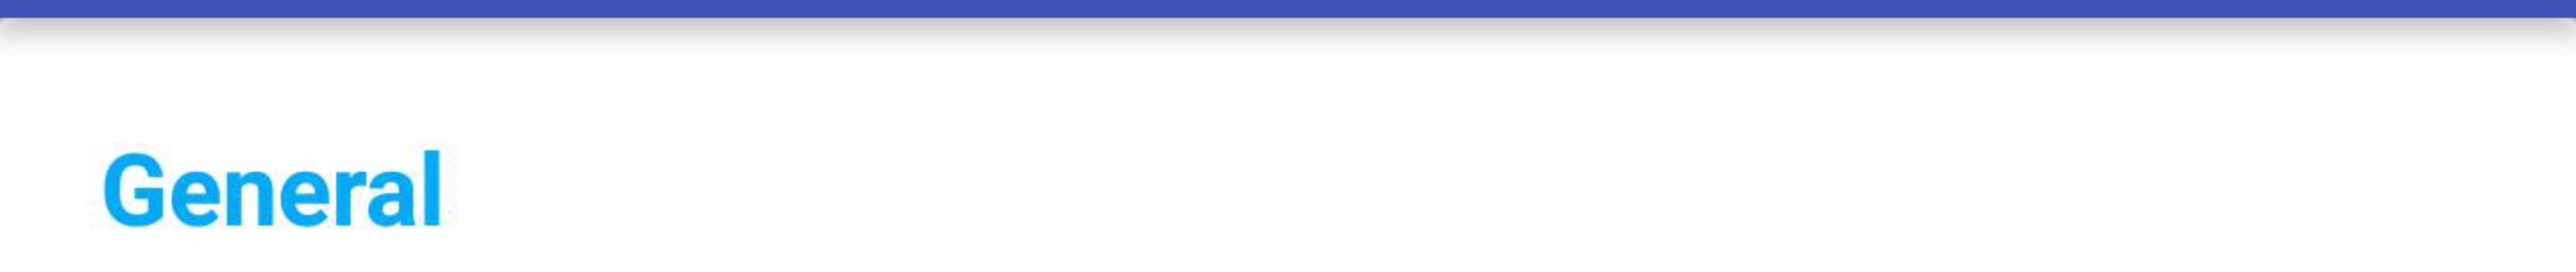TextView: (2, 2, 2574, 270)
